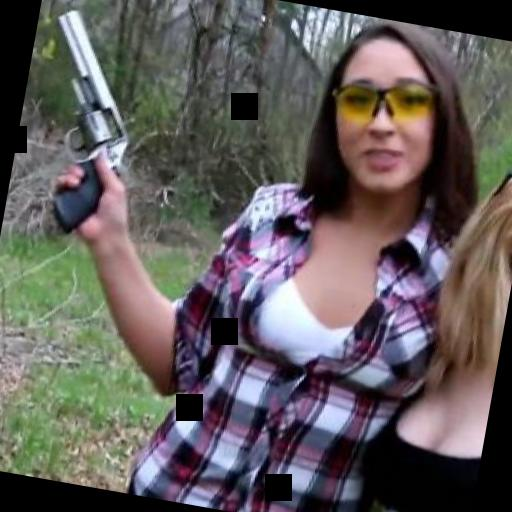Handgun: (11, 3, 167, 238)
